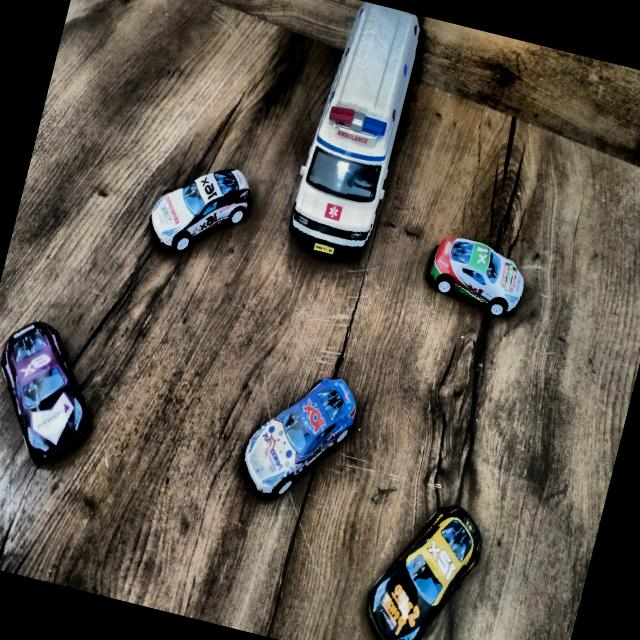Ambulance: (277, 0, 430, 270)
Car: (350, 486, 494, 640), (232, 360, 366, 516), (0, 310, 115, 476), (140, 148, 258, 268), (414, 224, 547, 326)
